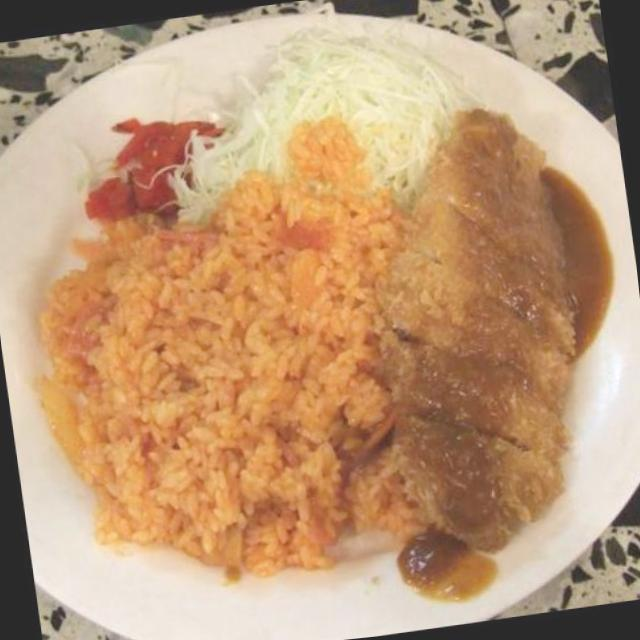Rice: (19, 188, 433, 601)
